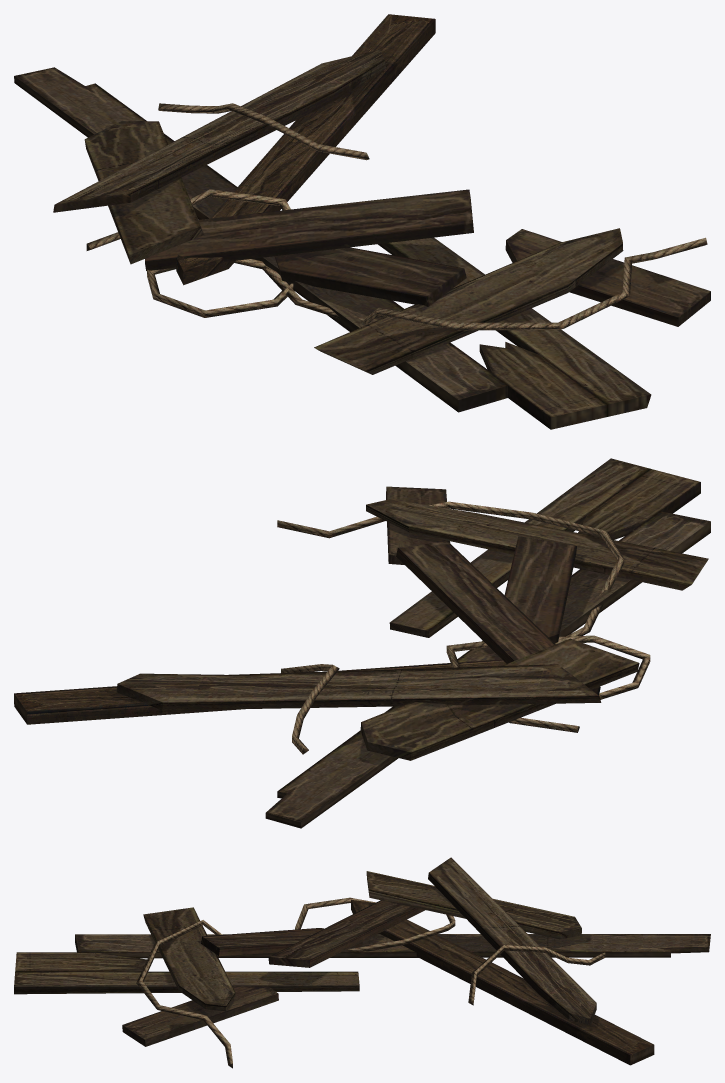
File: dummy01.glb
3 renders of one model, top to bottom at view 1: azimuth 30°, elevation 25°; view 2: azimuth 150°, elevation 25°; view 3: azimuth 270°, elevation 25°, orthographic. The views are drawn at different scales.
Visible parts, largest first — view 1: dummy01; view 2: dummy01; view 3: dummy01.
Boxes of the visible parts, bbox=[...] form: dummy01: bbox=[14, 14, 710, 429]; dummy01: bbox=[14, 458, 710, 828]; dummy01: bbox=[14, 857, 710, 1068].
Bounding box in the file's own units: 5.1 × 0.5903 × 8.45.
2 materials, 2 textured.
